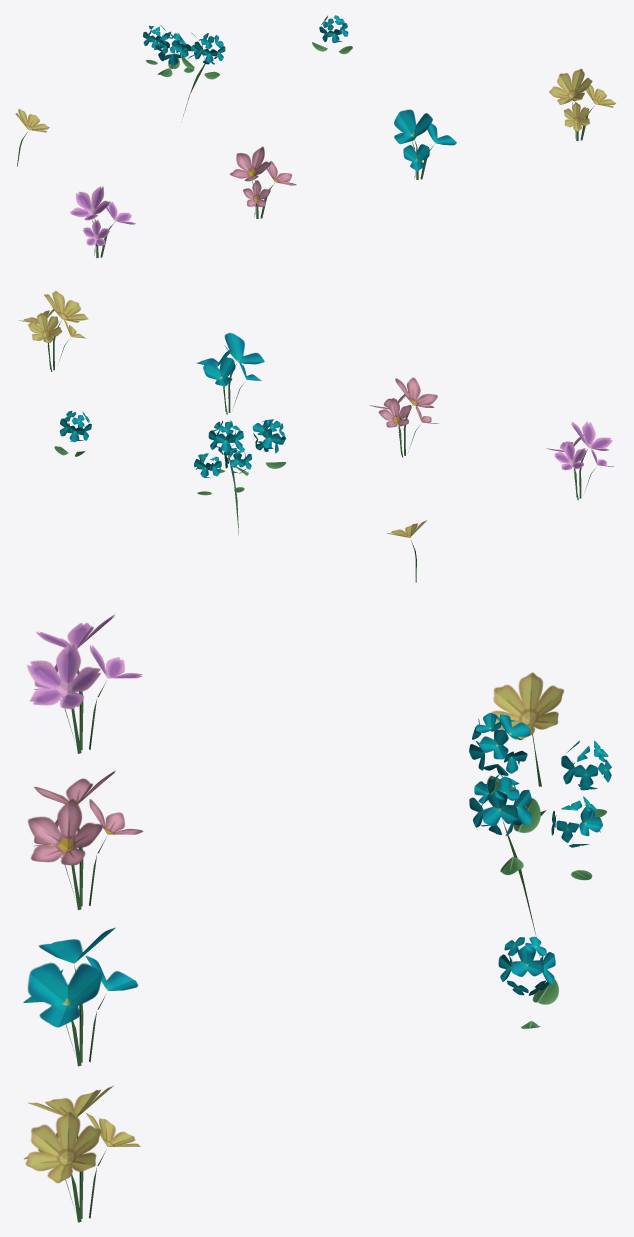
File: flowersQ.glb
3 renders of one model, top to bottom at view 1: azimuth 30°, elevation 25°; view 2: azimuth 150°, elevation 25°; view 3: azimuth 270°, elevation 25°, orthographic. The views are drawn at different scales.
Parts seen in each view (by area): view 1: Flower_1_Clump, Flower_2_Clump, Flower_3_Clump, Flower_4_Clump, Flower_5_Clump, Flower_1, Flower_2; view 2: Flower_1_Clump, Flower_2_Clump, Flower_3_Clump, Flower_4_Clump, Flower_5_Clump, Flower_1; view 3: Flower_1_Clump, Flower_2_Clump, Flower_3_Clump, Flower_4_Clump, Flower_5_Clump, Flower_2, Flower_1.
Boxes of the visible parts, x1=… form: Flower_1_Clump: x1=143, y1=25, x2=225, y2=116; Flower_2_Clump: x1=549, y1=68, x2=615, y2=140; Flower_3_Clump: x1=394, y1=109, x2=456, y2=179; Flower_4_Clump: x1=230, y1=146, x2=296, y2=218; Flower_5_Clump: x1=69, y1=186, x2=135, y2=258; Flower_1: x1=312, y1=15, x2=352, y2=54; Flower_2: x1=15, y1=109, x2=49, y2=166; Flower_1_Clump: x1=194, y1=419, x2=286, y2=534; Flower_2_Clump: x1=19, y1=291, x2=88, y2=371; Flower_3_Clump: x1=196, y1=332, x2=264, y2=414; Flower_4_Clump: x1=369, y1=377, x2=438, y2=457; Flower_5_Clump: x1=546, y1=421, x2=614, y2=500; Flower_1: x1=54, y1=411, x2=91, y2=456; Flower_1_Clump: x1=469, y1=713, x2=611, y2=937; Flower_2_Clump: x1=24, y1=1085, x2=140, y2=1222; Flower_3_Clump: x1=23, y1=927, x2=138, y2=1066; Flower_4_Clump: x1=28, y1=771, x2=143, y2=909; Flower_5_Clump: x1=27, y1=614, x2=142, y2=753; Flower_2: x1=491, y1=672, x2=563, y2=786; Flower_1: x1=498, y1=936, x2=558, y2=1028.
Bounding box in the file's own units: 3.59 × 0.674 × 1.71.
1 material, 1 textured.
